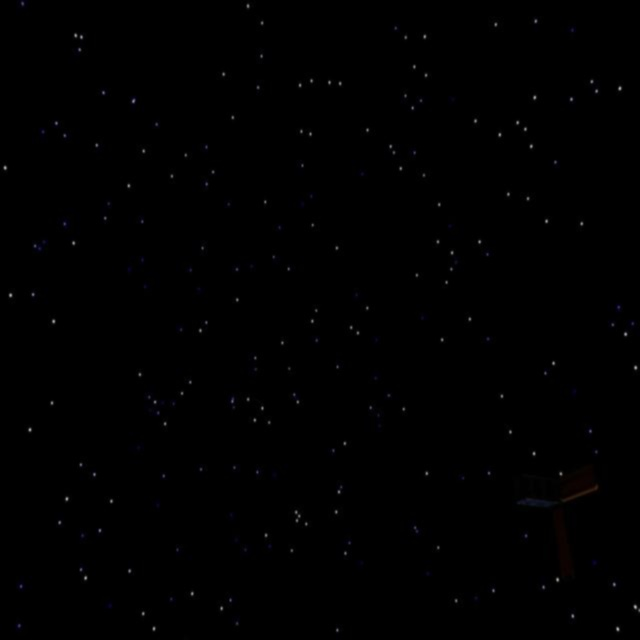medium_debris: (517, 439, 607, 601)
